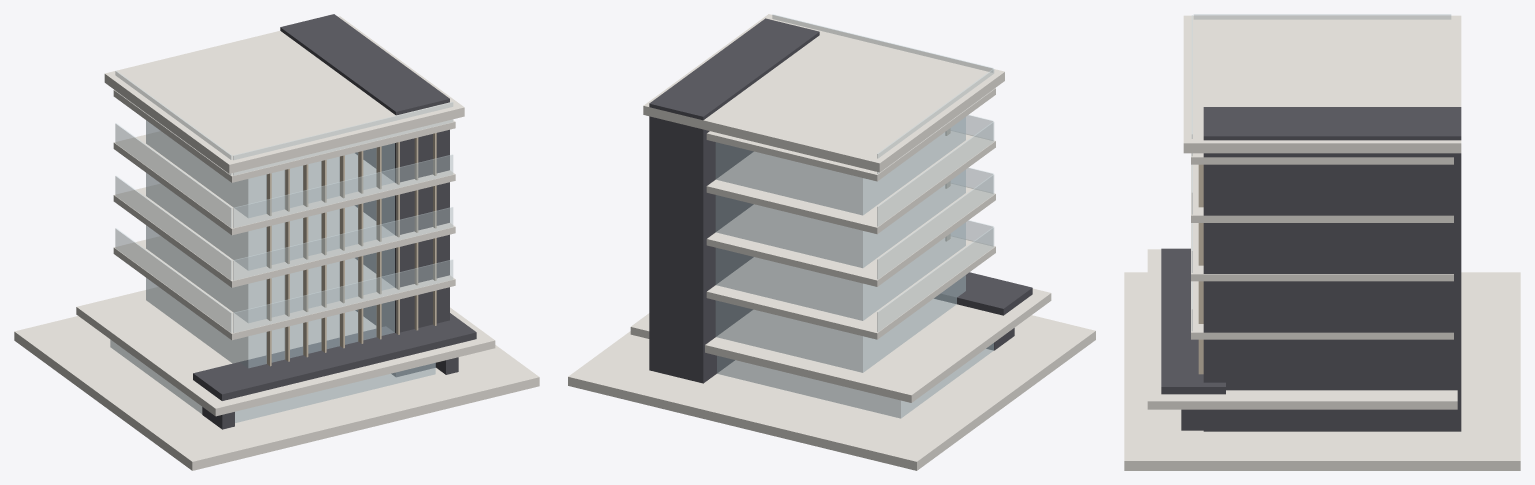
The model's file is arqvertice-showcase.glb.
3 views of the same model, side by side, from view 1: azimuth 30°, elevation 25°; view 2: azimuth 150°, elevation 25°; view 3: azimuth 270°, elevation 25° (orthographic). The views are drawn at different scales.
Parts seen in each view (by area): view 1: Pavimentos_Concreto, Pele_De_Vidro, Revestimento_ACM, Guarda_Corpos, Sistema_Brises; view 2: Pavimentos_Concreto, Pele_De_Vidro, Revestimento_ACM, Guarda_Corpos; view 3: Pavimentos_Concreto, Revestimento_ACM, Guarda_Corpos, Sistema_Brises.
Boxes of the visible parts, x1,y1,x2,y2 form: Pavimentos_Concreto: (14, 16, 539, 470); Pele_De_Vidro: (110, 120, 435, 422); Revestimento_ACM: (193, 14, 476, 429); Guarda_Corpos: (115, 71, 453, 332); Sistema_Brises: (266, 133, 436, 366); Pavimentos_Concreto: (568, 14, 1095, 470); Pele_De_Vidro: (715, 117, 993, 418); Revestimento_ACM: (649, 18, 1032, 383); Guarda_Corpos: (772, 14, 994, 331); Pavimentos_Concreto: (1124, 15, 1520, 470); Revestimento_ACM: (1161, 107, 1461, 431); Guarda_Corpos: (1191, 14, 1451, 330); Sistema_Brises: (1198, 164, 1203, 374).
Size of the model in its own units: 18 by 13.64 by 16.
